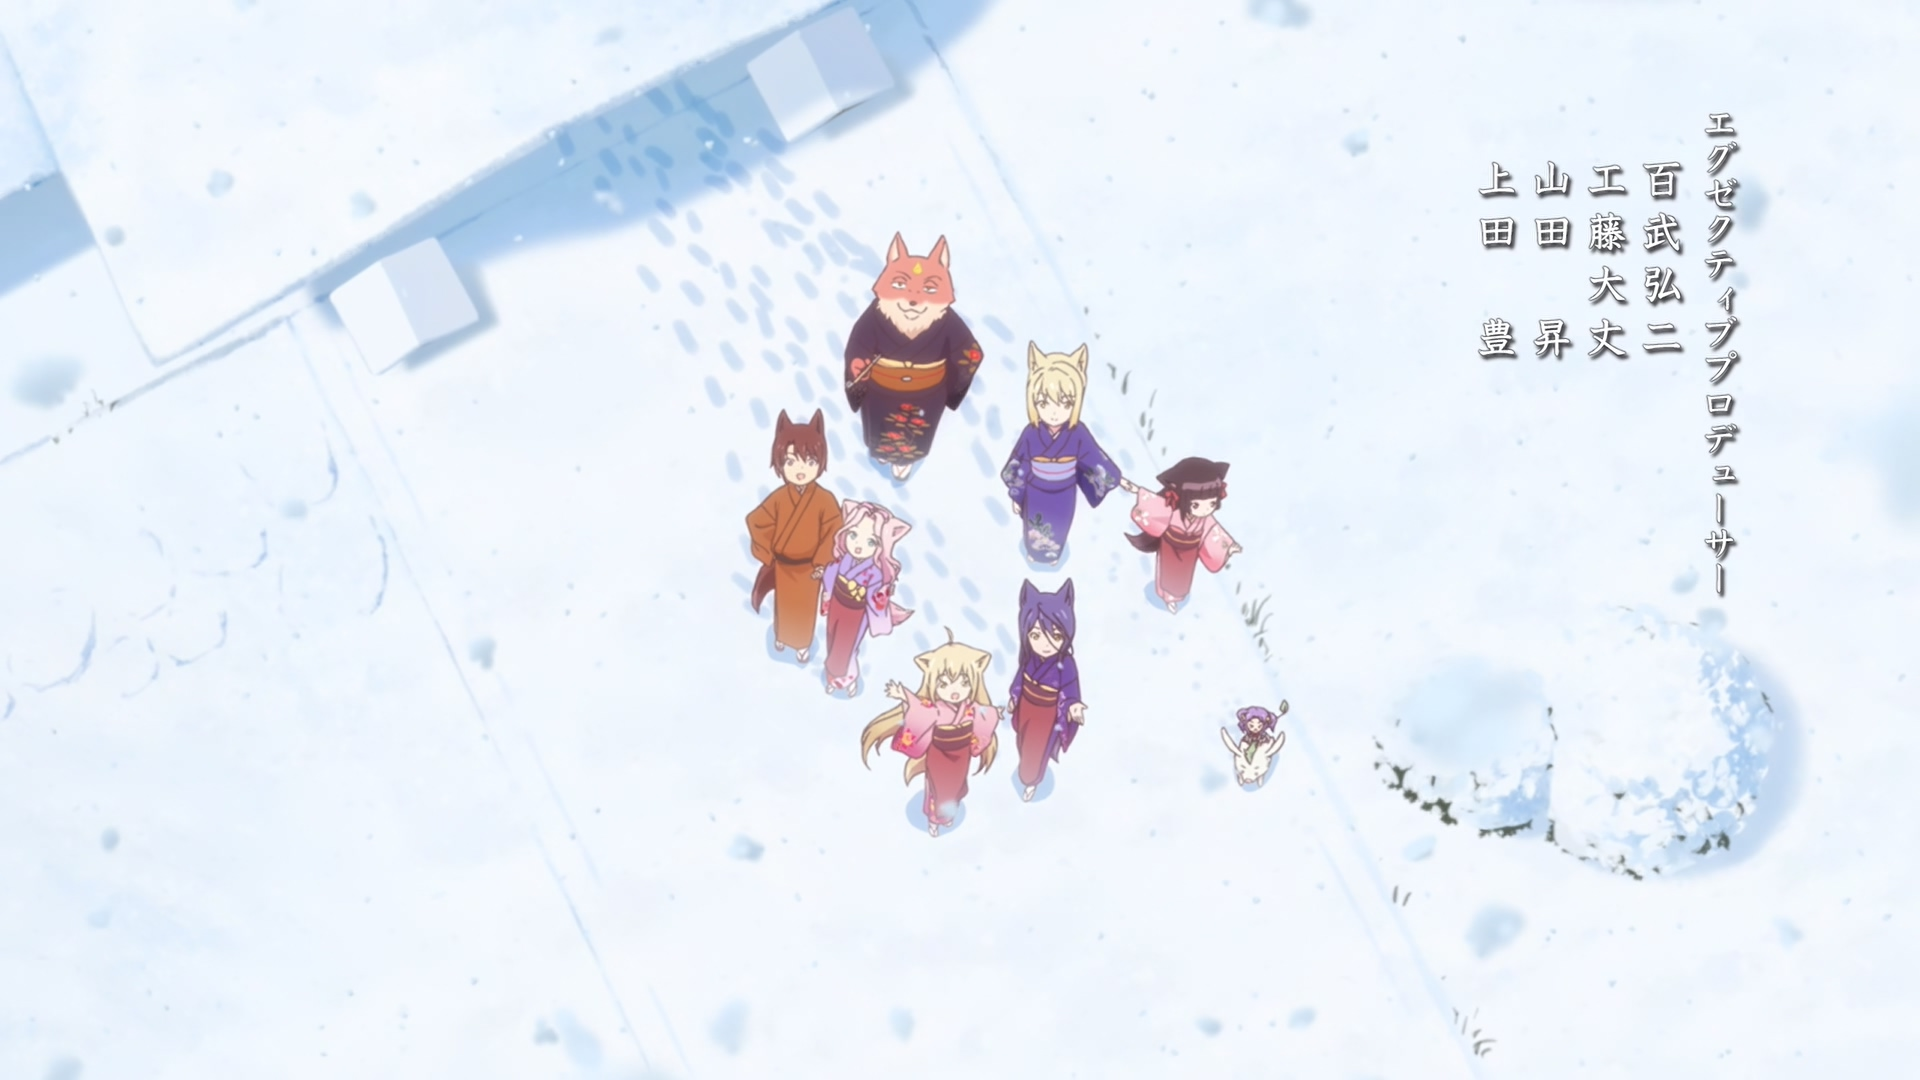枣: (745, 411, 844, 667)
柚: (858, 626, 1000, 837)
桐: (1000, 343, 1127, 567)
椿: (844, 231, 982, 479)
樱: (1127, 458, 1241, 611)
瓜之介: (1218, 705, 1292, 789)
皋: (1005, 578, 1087, 800)
莲: (814, 498, 913, 695)
阿菊: (1238, 705, 1278, 742)
